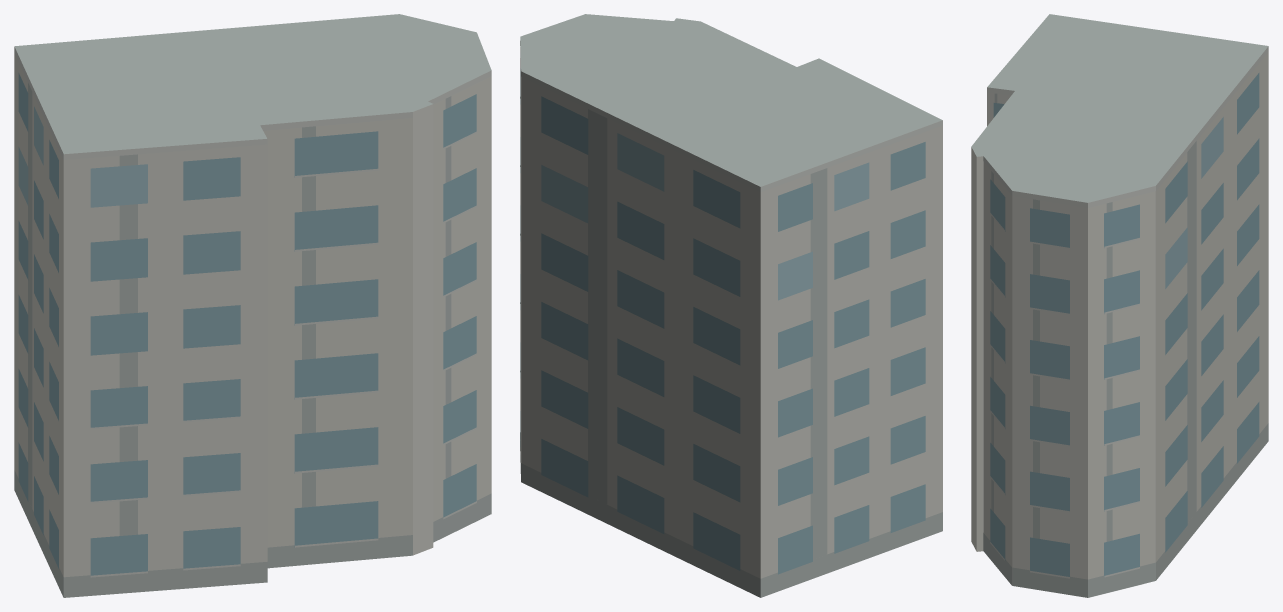
File: survey-upis-32852773.glb
3 views of the same model, side by side, from view 1: azimuth 30°, elevation 25°; view 2: azimuth 150°, elevation 25°; view 3: azimuth 270°, elevation 25° (orthographic). The views are drawn at different scales.
Parts seen in each view (by area): view 1: survey-upis-32852773.tmp; view 2: survey-upis-32852773.tmp; view 3: survey-upis-32852773.tmp.
Boxes of the visible parts, box(x1,y1,x2,y2) form: survey-upis-32852773.tmp: box(14, 14, 491, 597); survey-upis-32852773.tmp: box(520, 14, 942, 597); survey-upis-32852773.tmp: box(971, 14, 1268, 597).
Size of the model in its own units: 18.93 by 18.45 by 12.6.
